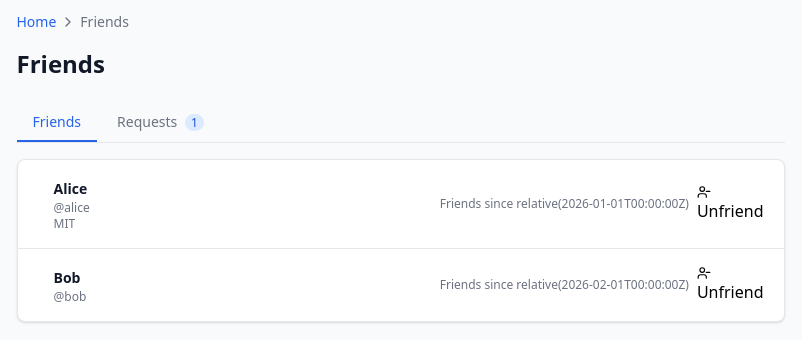
Test: FriendsView › shows outgoing requests section only for non-incoming requests
Click the tab "Requests 1" at (160, 123), box [101,104,220,142]
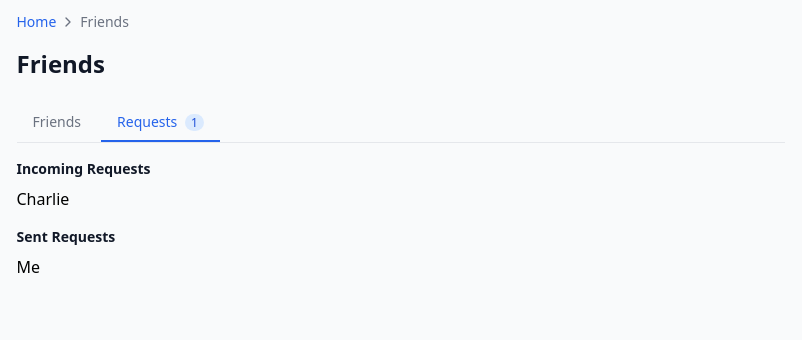
Expected: the text "Sent Requests" is shown, [16,227,115,246]
Expected: the text "Charlie" is shown, [16,188,69,210]
